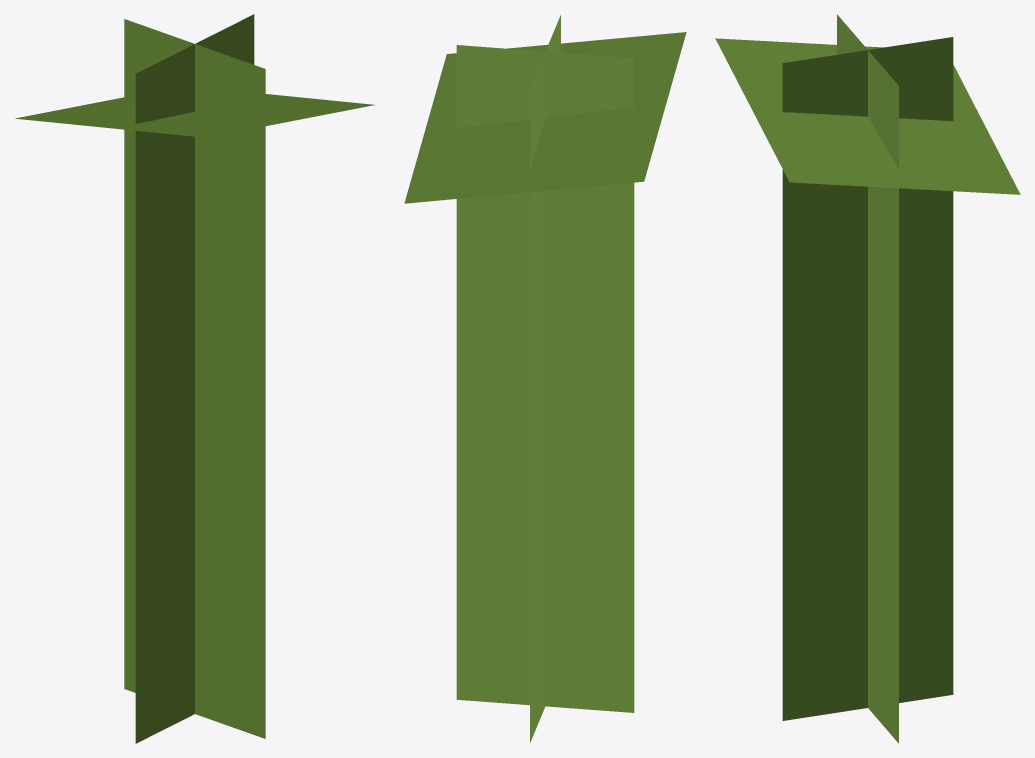
File: wildflower_single_d.glb
3 renders of one model, left to right at view 1: azimuth 30°, elevation 25°; view 2: azimuth 150°, elevation 25°; view 3: azimuth 270°, elevation 25°, orthographic. The views are drawn at different scales.
Parts seen in each view (by area): view 1: wildflower_single_d_lod0; view 2: wildflower_single_d_lod0; view 3: wildflower_single_d_lod0.
Part boxes in pixels (<box>): wildflower_single_d_lod0: <box>15,14,374,743</box>; wildflower_single_d_lod0: <box>404,15,686,742</box>; wildflower_single_d_lod0: <box>715,14,1020,743</box>.
Size of what is drawn, in the model's own units: 0.3301 by 0.75 by 0.3157.
